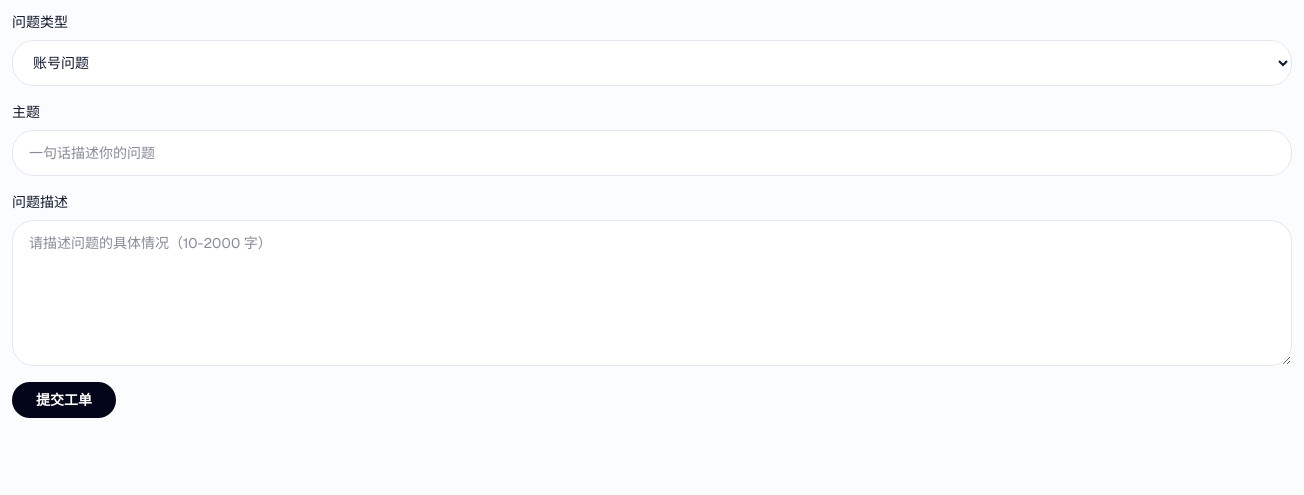
Test: SupportTicketCreateForm（用户面创建表单） › action 失败 → role=alert 错误反馈
Type "失败主题" into the field labelled "主题" at [652, 153], box [12,130,1292,176]
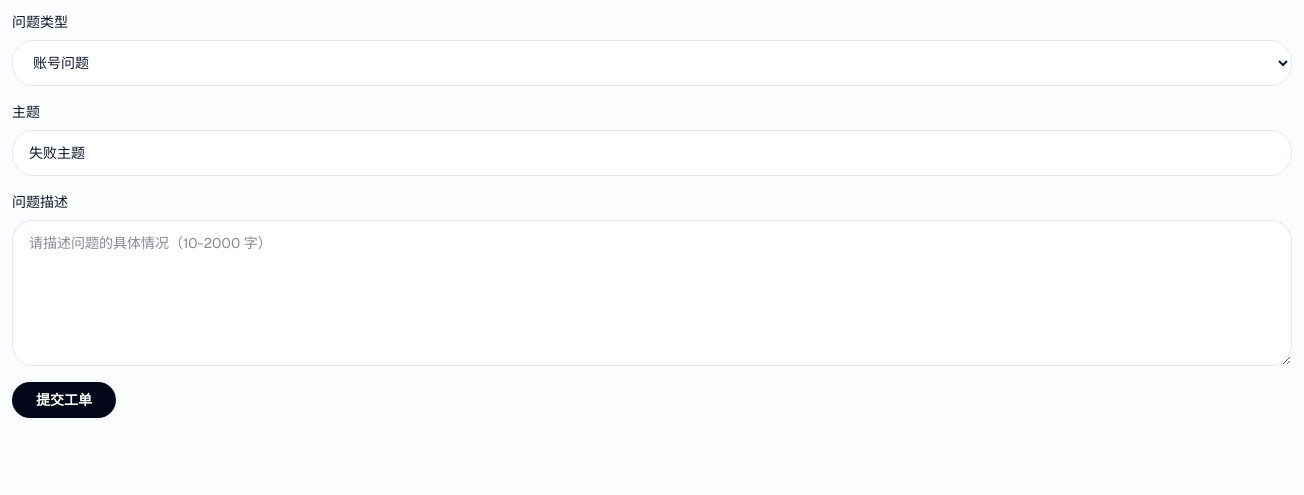
Type "失败路径描述正文足够长。" into the text box labelled "问题描述" at [652, 293], box [12,220,1292,366]
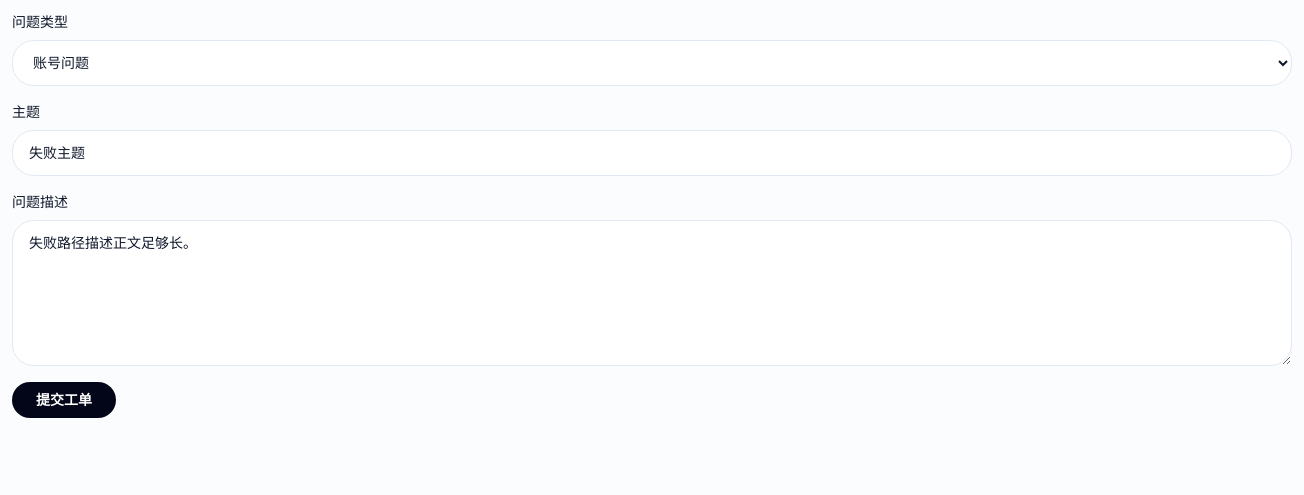
Click the button "提交工单" at [64, 400], box [12,382,116,418]
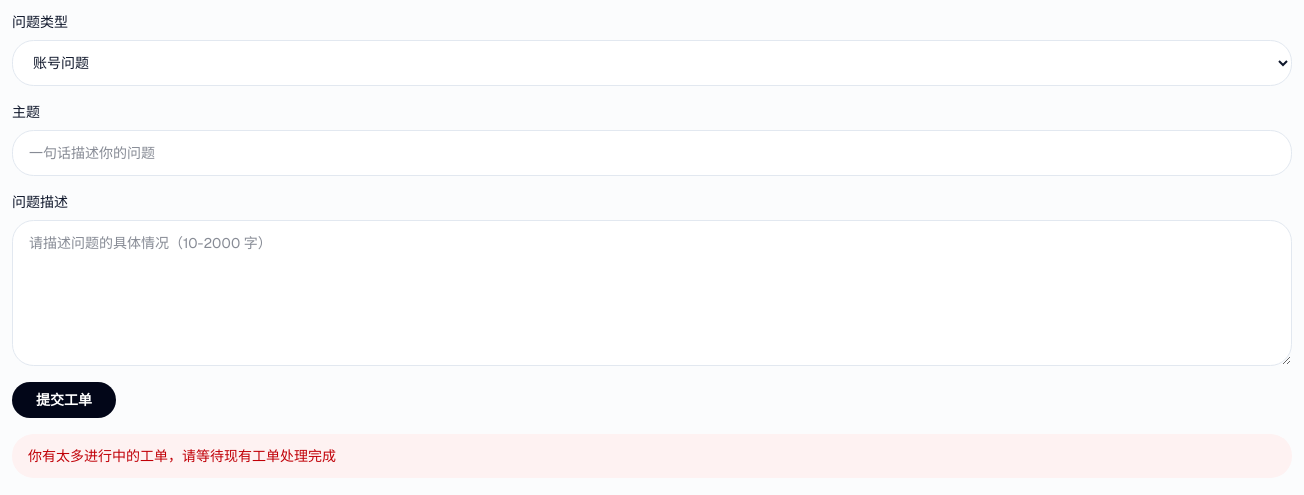
Result: the message "你有太多进行中的工单，请等待现有工单处理完成" is shown at [12,434,1292,478]
